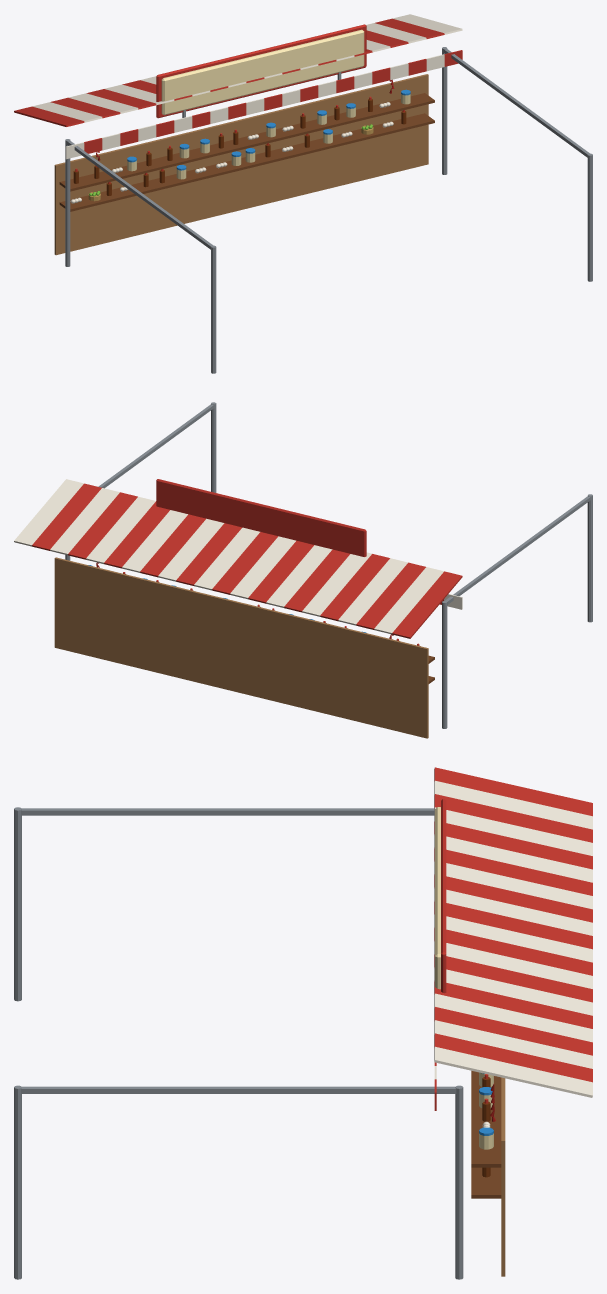
File: stall.glb
The picture shows the model from 3 angles, top to bottom: view 1: azimuth 30°, elevation 25°; view 2: azimuth 150°, elevation 25°; view 3: azimuth 270°, elevation 25°; orthographic projection. The views are drawn at different scales.
Visible parts, largest first — view 1: stall; view 2: stall; view 3: stall.
Boxes of the visible parts, x1,y1,x2,y2 form: stall: (14,14,592,373); stall: (14,402,592,738); stall: (14,767,592,1279).
Bounding box in the file's own units: 10.2 × 4.28 × 8.53.
